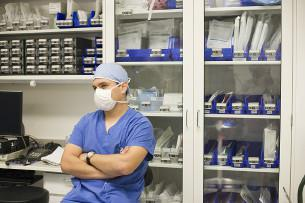OK: (91, 78, 125, 112)
